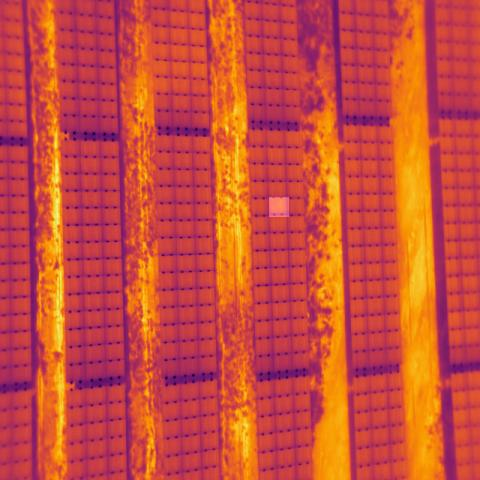fault: (269, 198, 289, 218)
